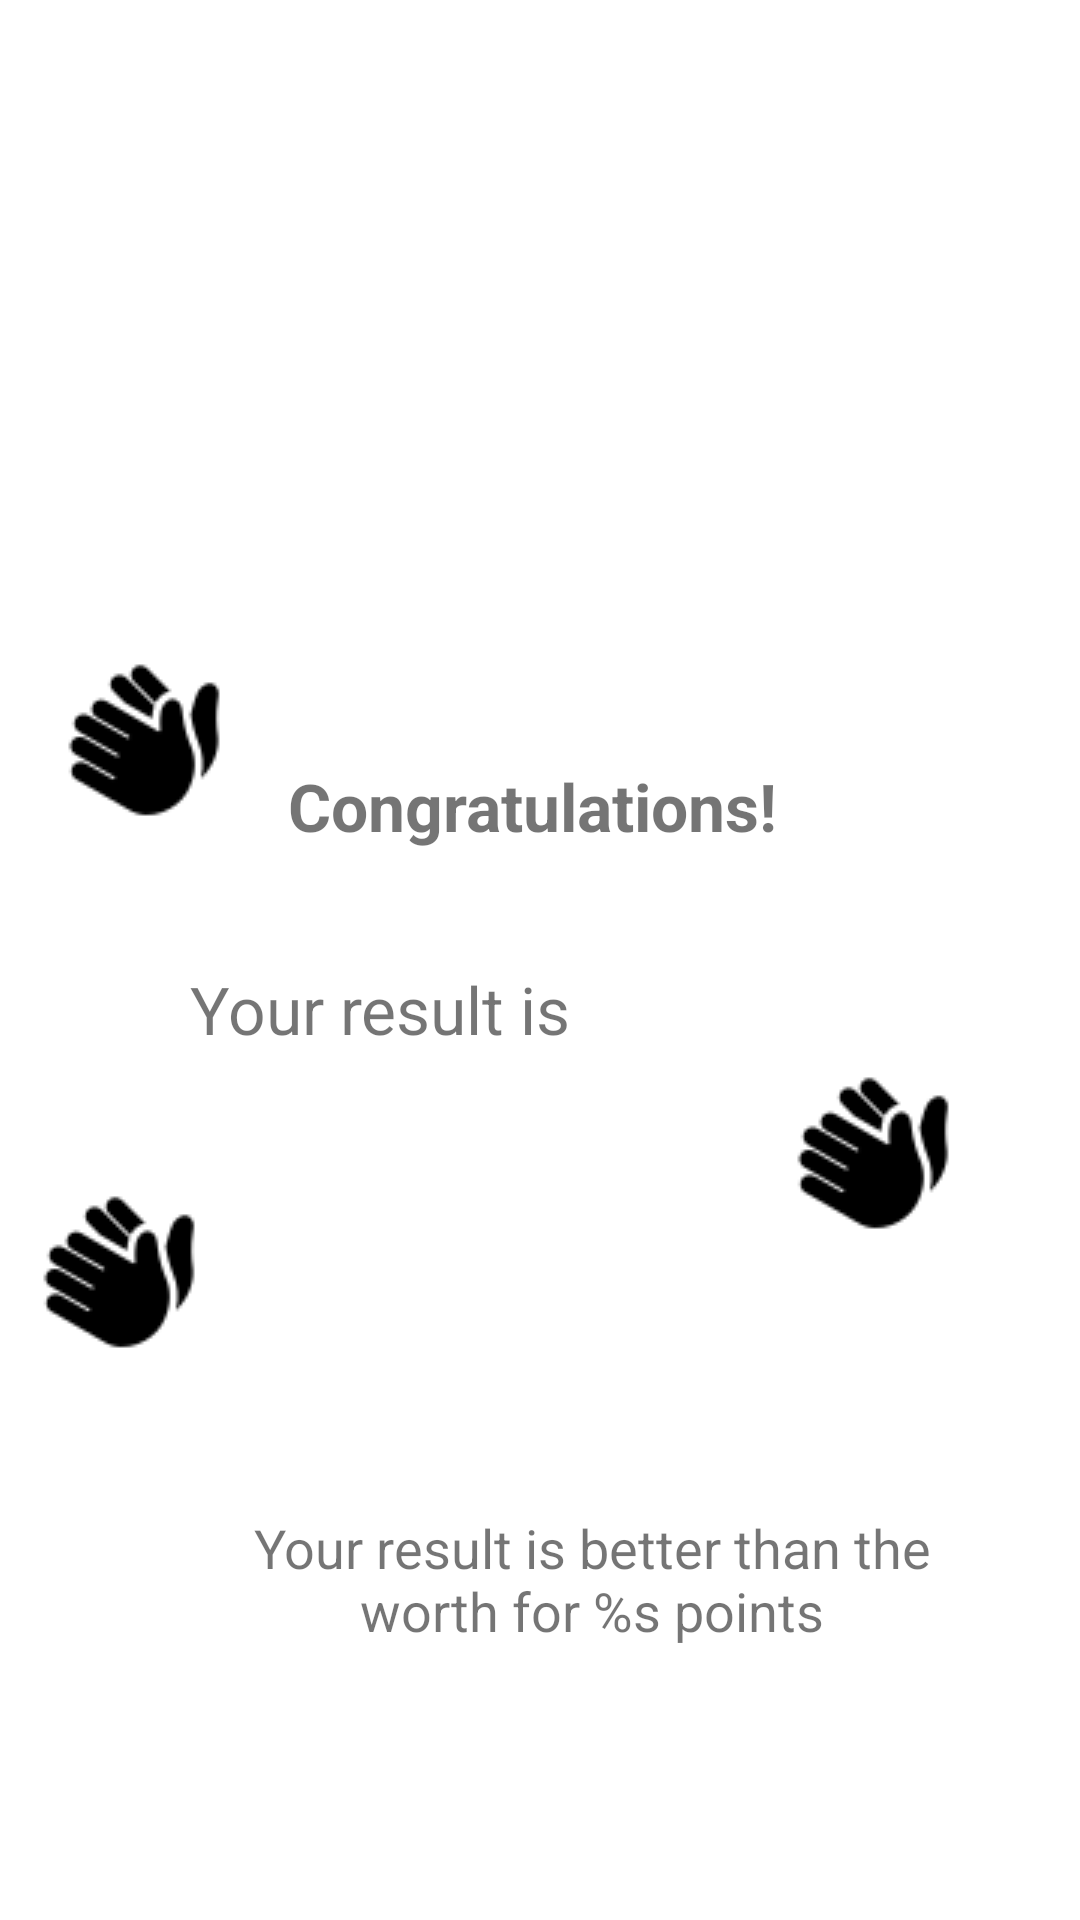

Icons on this 1080×1920 Android screen, each with the point to tap as [x,y]:
applause: [144,740], [873,1153], [119,1272]
